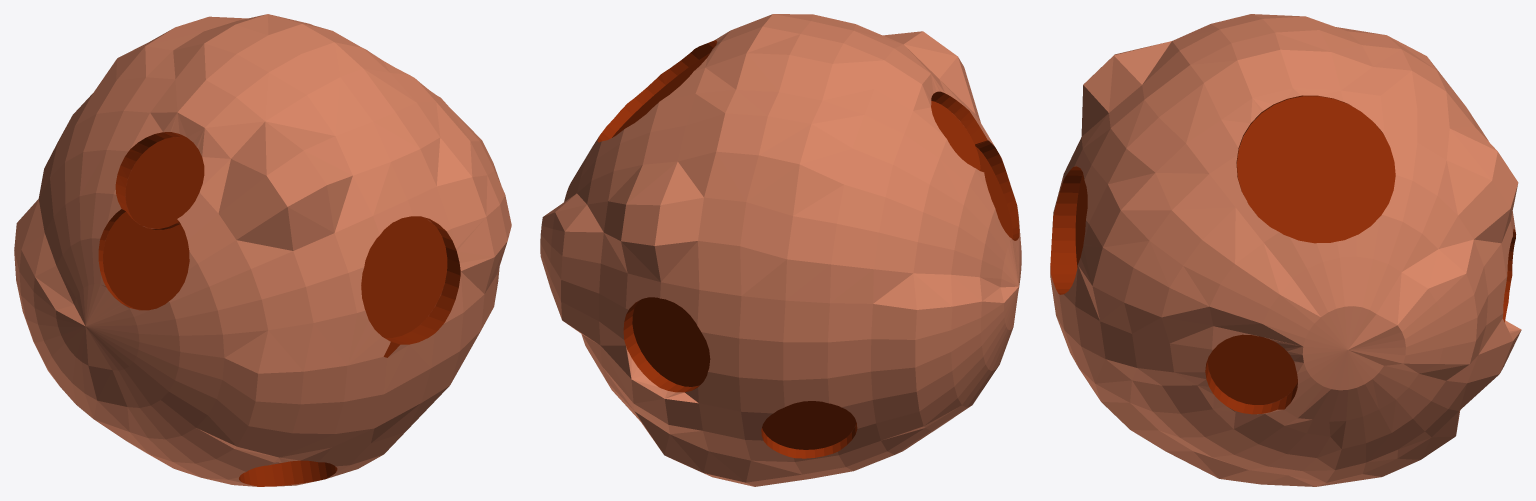
Rendered from meteorSmall.obj.
3 renders of one model, left to right at view 1: azimuth 30°, elevation 25°; view 2: azimuth 150°, elevation 25°; view 3: azimuth 270°, elevation 25°, orthographic. The views are drawn at different scales.
Parts seen in each view (by area): view 1: 球; view 2: 球; view 3: 球.
Boxes of the visible parts, x1=… form: 球: x1=14, y1=14, x2=511, y2=486; 球: x1=540, y1=14, x2=1021, y2=486; 球: x1=1050, y1=14, x2=1521, y2=486.
Bounding box in the file's own units: 1.9 × 1.86 × 1.83.
